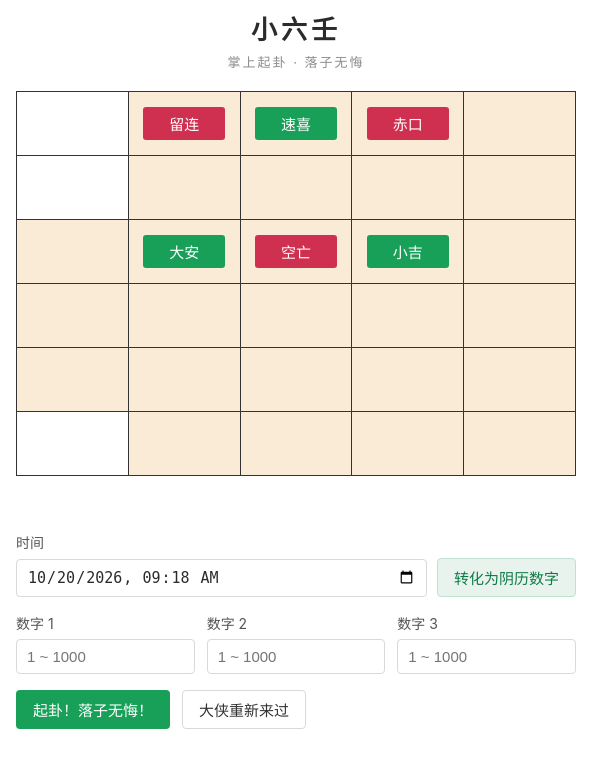
Test: XiaoLiuRen › 清空时间后给出提示，而不是静默失败
This screenshot has width=593, height=782.
Clear the field with id "when": coordinates (222, 578) [16, 558, 427, 596]
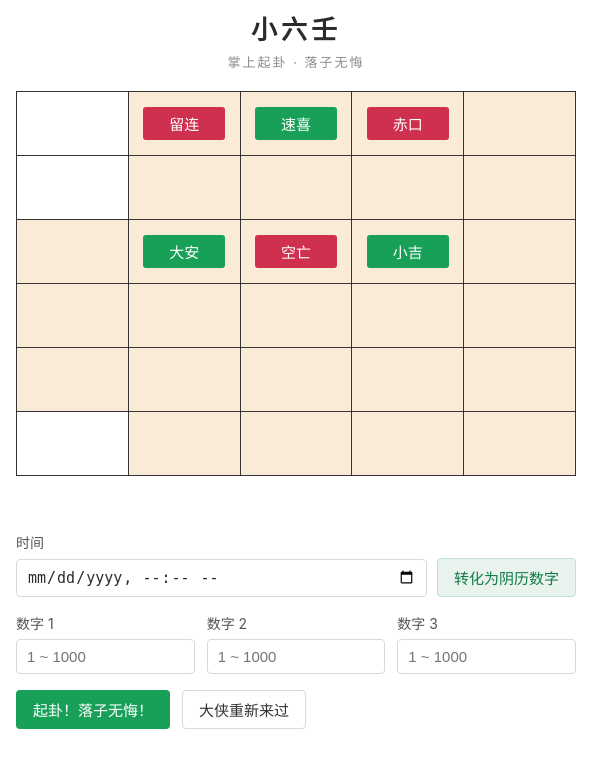
Click the button with class "btn--info": coordinates (506, 578) [437, 558, 576, 597]
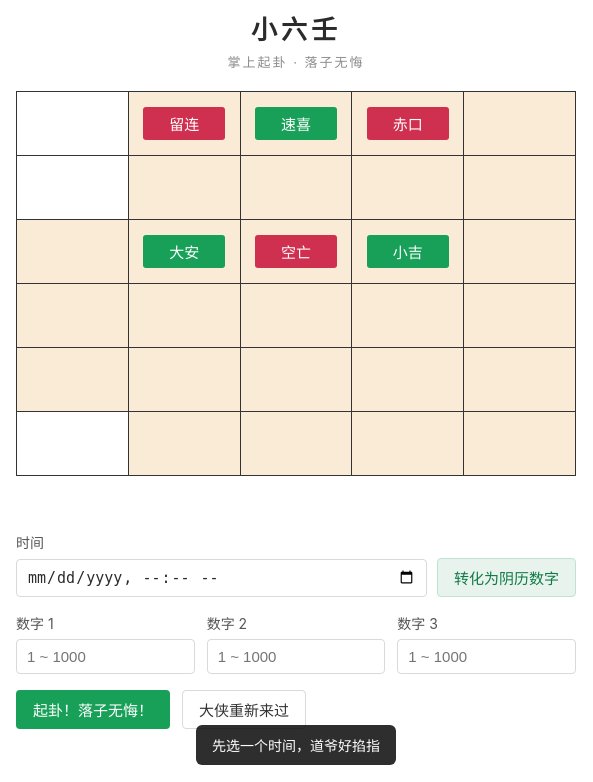
Now the message with class "toast" shows "先选一个时间", box [212, 737, 380, 754]
